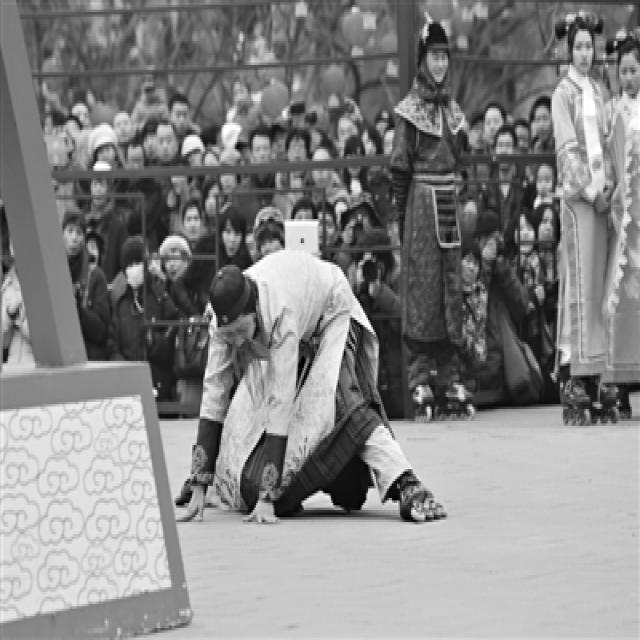10-: (0, 2, 638, 432)
down: (188, 246, 390, 534), (218, 358, 442, 542)
